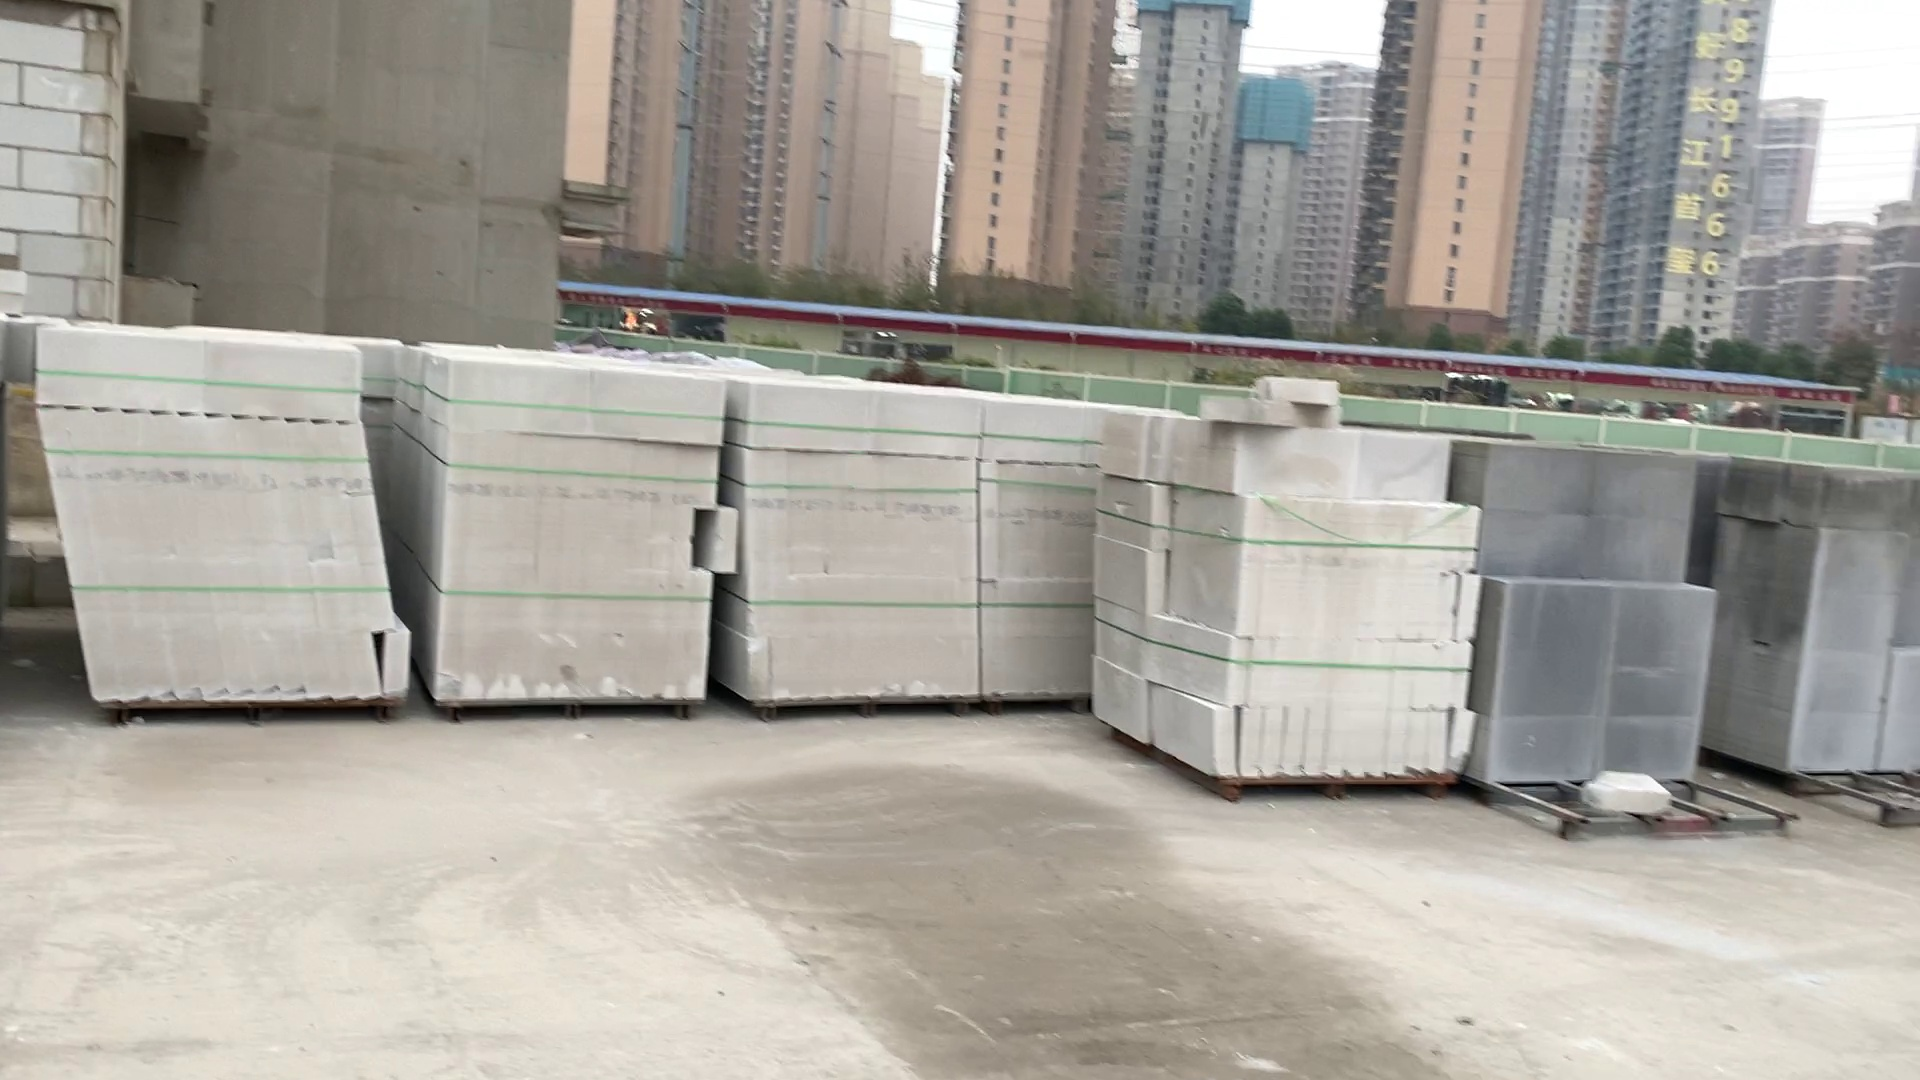brickwork: (37, 316, 406, 713), (1096, 400, 1473, 777), (433, 357, 707, 723), (1474, 446, 1706, 802), (737, 382, 982, 708), (1720, 456, 1915, 787), (984, 389, 1106, 705)
